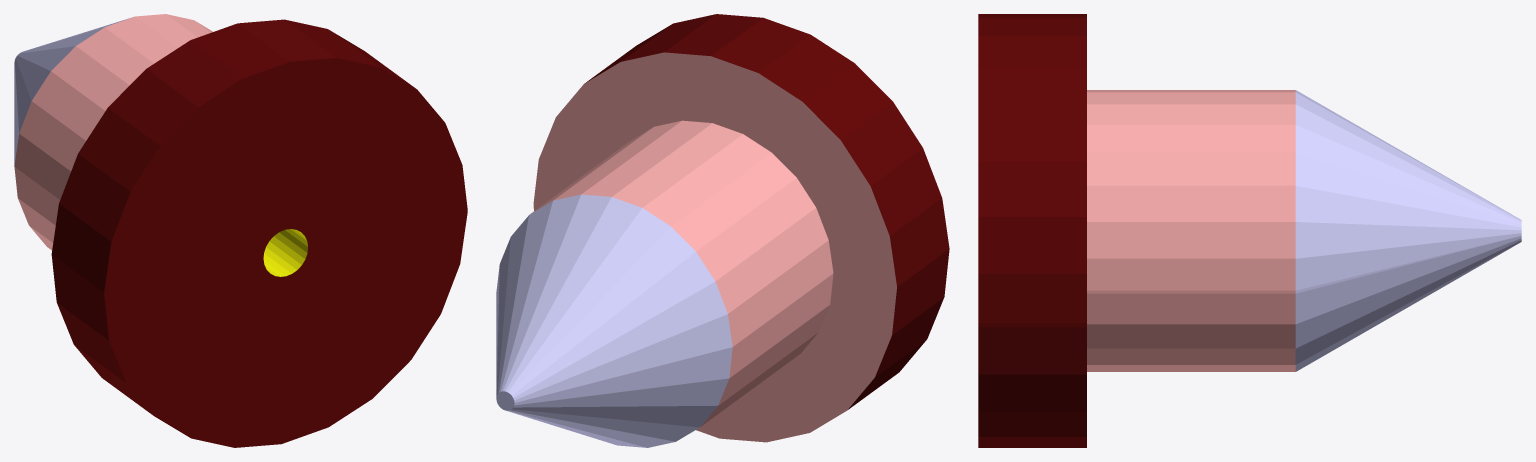
The model's file is World_sticktool_sticktool__2_30D_355619_________0903_________K00_21_38D_600748_POS_103_BLZN_KLB__2_30D_355619_________0903_________K00_21_38D_600748_POS_103_BLZN_KLB.obj.
The picture shows the model from 3 angles, left to right: view 1: azimuth 30°, elevation 25°; view 2: azimuth 150°, elevation 25°; view 3: azimuth 270°, elevation 25°; orthographic projection. The views are drawn at different scales.
Bounding box in the file's own units: 0.04 × 0.04 × 0.05.
